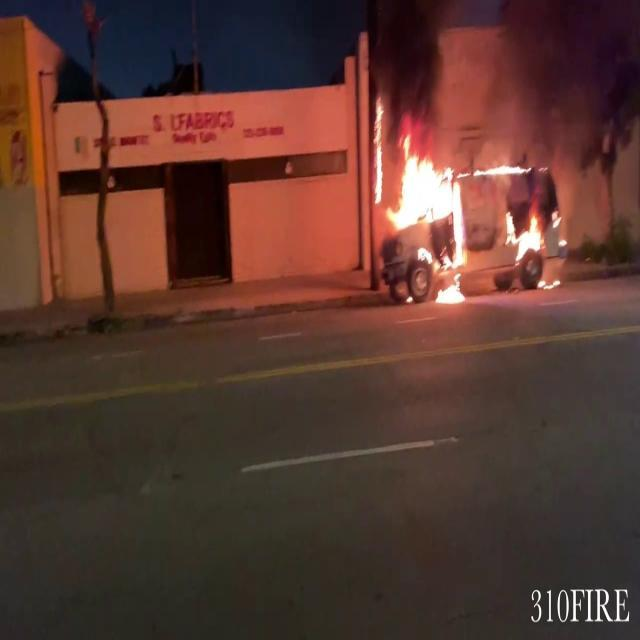Fire: (376, 129, 554, 299), (378, 128, 473, 300), (504, 202, 552, 274)
Smoke: (424, 0, 640, 164)
